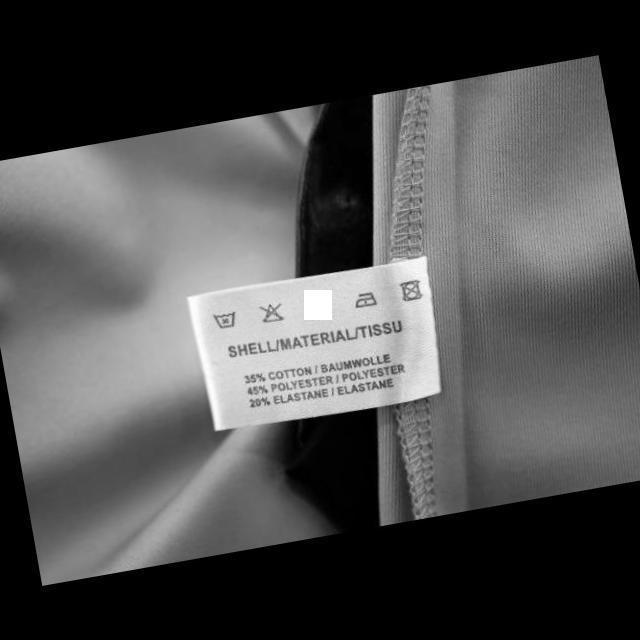30C: (211, 310, 238, 331)
DN_bleach: (258, 299, 286, 325)
DN_tumble_dry: (398, 277, 426, 304)
iron_low: (352, 288, 380, 310)
